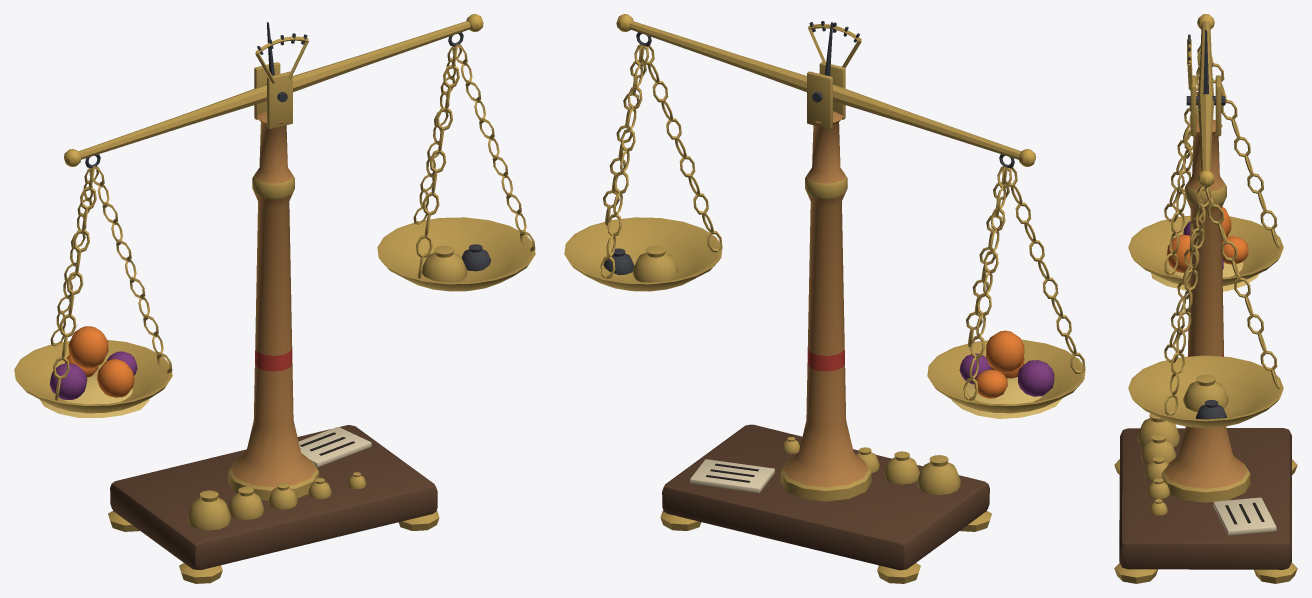
Rendered from deco_trade_scales.fbx.
3 views of the same model, side by side, from view 1: azimuth 30°, elevation 25°; view 2: azimuth 150°, elevation 25°; view 3: azimuth 270°, elevation 25° (orthographic). The views are drawn at different scales.
Visible parts, largest first — view 1: TradeScales_Stand, TradeScales_PanL, TradeScales_PanR, TradeScales_Beam, TradeScales_Weights; view 2: TradeScales_Stand, TradeScales_PanL, TradeScales_PanR, TradeScales_Beam, TradeScales_Weights; view 3: TradeScales_Stand, TradeScales_PanR, TradeScales_PanL, TradeScales_Weights, TradeScales_Beam.
Boxes of the visible parts, <box> form: TradeScales_Stand: <box>108,33,439,583</box>; TradeScales_PanL: <box>14,166,172,417</box>; TradeScales_PanR: <box>377,44,535,291</box>; TradeScales_Beam: <box>64,14,483,168</box>; TradeScales_Weights: <box>187,427,371,530</box>; TradeScales_Stand: <box>660,21,991,583</box>; TradeScales_PanL: <box>927,166,1085,418</box>; TradeScales_PanR: <box>564,42,722,291</box>; TradeScales_Beam: <box>616,14,1035,167</box>; TradeScales_Weights: <box>690,437,960,494</box>; TradeScales_Stand: <box>1114,34,1297,583</box>; TradeScales_PanR: <box>1128,186,1283,428</box>; TradeScales_PanL: <box>1128,45,1283,291</box>; TradeScales_Weights: <box>1137,413,1276,535</box>; TradeScales_Beam: <box>1197,14,1214,188</box>.
Bounding box in the file's own units: 203 × 195 × 66.
